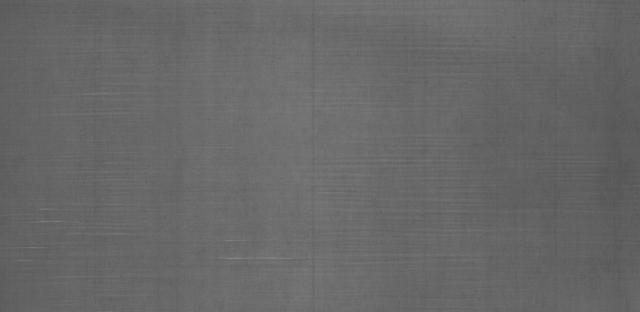waist_folding: (7, 16, 546, 235)
